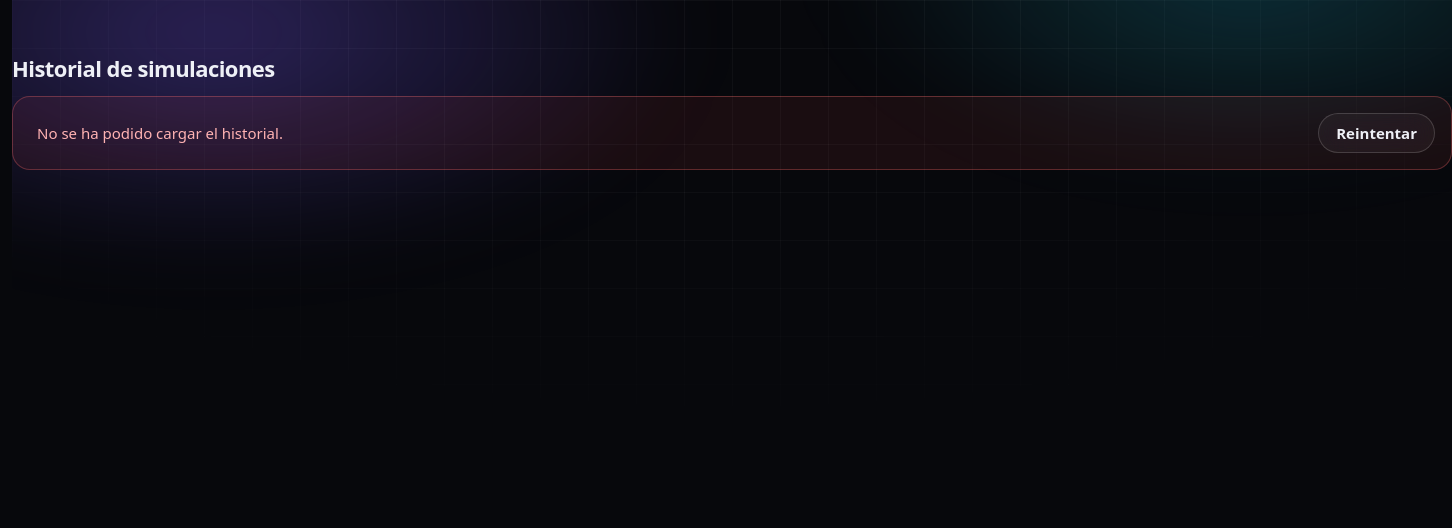
Test: SimulationHistory › un error muestra el aviso y «Reintentar» vuelve a pedir el historial
Expected: the message shows "No se ha podido cargar el historial.", x1=37 y1=123 x2=283 y2=143
Click the button "Reintentar" at (1377, 133), box x1=1318 y1=113 x2=1435 y2=153
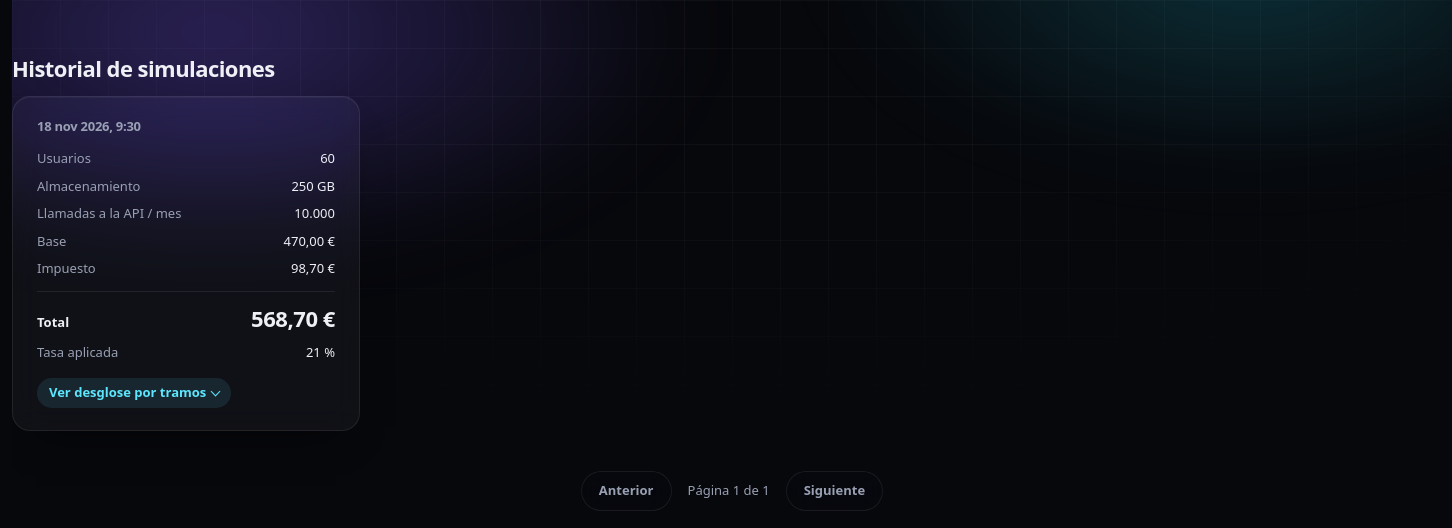
Result: the element named "Simulación 3" is shown at x1=12 y1=96 x2=360 y2=431
